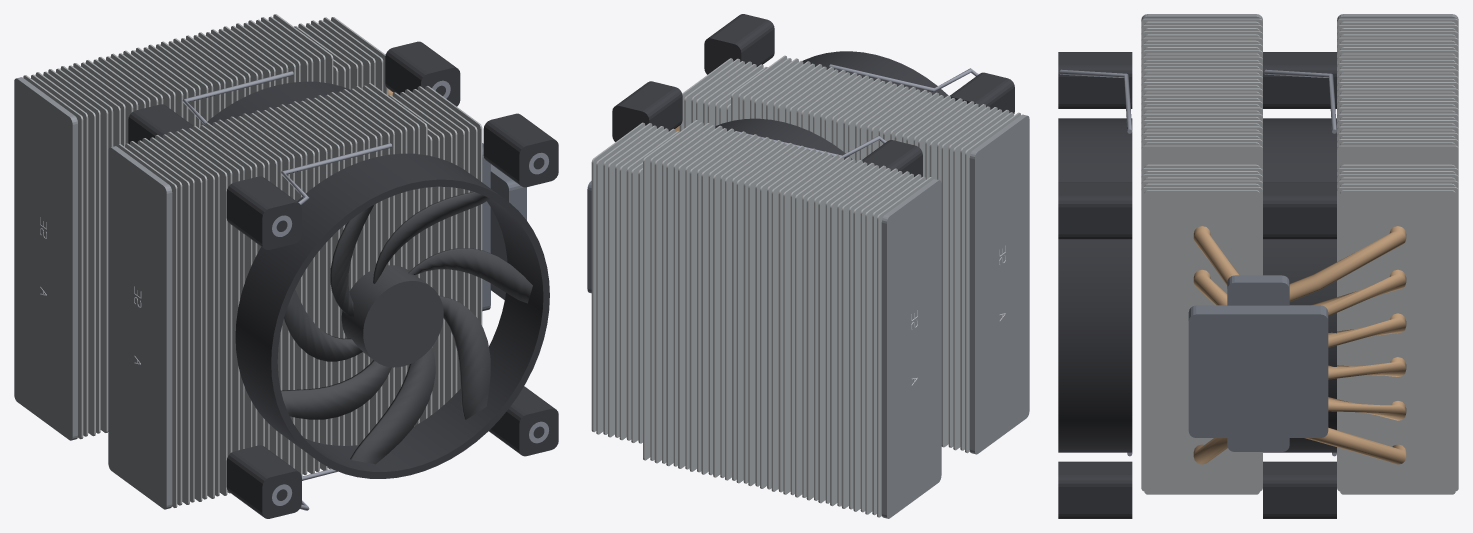
File: thermalright-peerless-assassin-120-se.glb
The picture shows the model from 3 angles, left to right: view 1: azimuth 30°, elevation 25°; view 2: azimuth 150°, elevation 25°; view 3: azimuth 270°, elevation 25°; orthographic projection. The views are drawn at different scales.
Parts seen in each view (by area): view 1: fixed-heatsink.stacked-aluminum-fins, stationary.001.fan-frame, fixed-heatsink.top-cover, rotor-1.fan-rotor, stationary.fan-frame, fixed-heatsink.mounting-base, stationary.001.spring-steel, stationary.spring-steel; view 2: fixed-heatsink.stacked-aluminum-fins, fixed-heatsink.top-cover, stationary.001.fan-frame, stationary.fan-frame, stationary.001.spring-steel, fixed-heatsink.mounting-base; view 3: fixed-heatsink.stacked-aluminum-fins, stationary.001.fan-frame, stationary.fan-frame, fixed-heatsink.mounting-base, fixed-heatsink.heat-pipes, fixed-heatsink.top-cover, stationary.spring-steel, stationary.001.spring-steel.
Boxes of the visible parts, box(x1,y1,x2,y2) form: fixed-heatsink.stacked-aluminum-fins: box(23, 14, 482, 507); stationary.001.fan-frame: box(226, 113, 558, 518); fixed-heatsink.top-cover: box(14, 77, 172, 509); rotor-1.fan-rotor: box(281, 191, 532, 464); stationary.fan-frame: box(128, 41, 460, 144); fixed-heatsink.mounting-base: box(482, 143, 526, 311); stationary.001.spring-steel: box(272, 143, 548, 510); stationary.spring-steel: box(182, 71, 450, 124); fixed-heatsink.stacked-aluminum-fins: box(591, 55, 1020, 517); fixed-heatsink.top-cover: box(881, 114, 1029, 518); stationary.001.fan-frame: box(704, 14, 1014, 113); stationary.fan-frame: box(612, 81, 922, 177); stationary.001.spring-steel: box(829, 64, 978, 92); fixed-heatsink.mounting-base: box(587, 181, 591, 293); fixed-heatsink.stacked-aluminum-fins: box(1141, 18, 1458, 494); stationary.001.fan-frame: box(1058, 52, 1132, 518); stationary.fan-frame: box(1263, 52, 1336, 518); fixed-heatsink.mounting-base: box(1188, 275, 1328, 451); fixed-heatsink.heat-pipes: box(1193, 226, 1406, 464); fixed-heatsink.top-cover: box(1141, 14, 1458, 21); stationary.spring-steel: box(1264, 69, 1336, 456); stationary.001.spring-steel: box(1059, 69, 1132, 456).
Bounding box in the file's own units: 0.1552 × 0.125 × 0.135.
